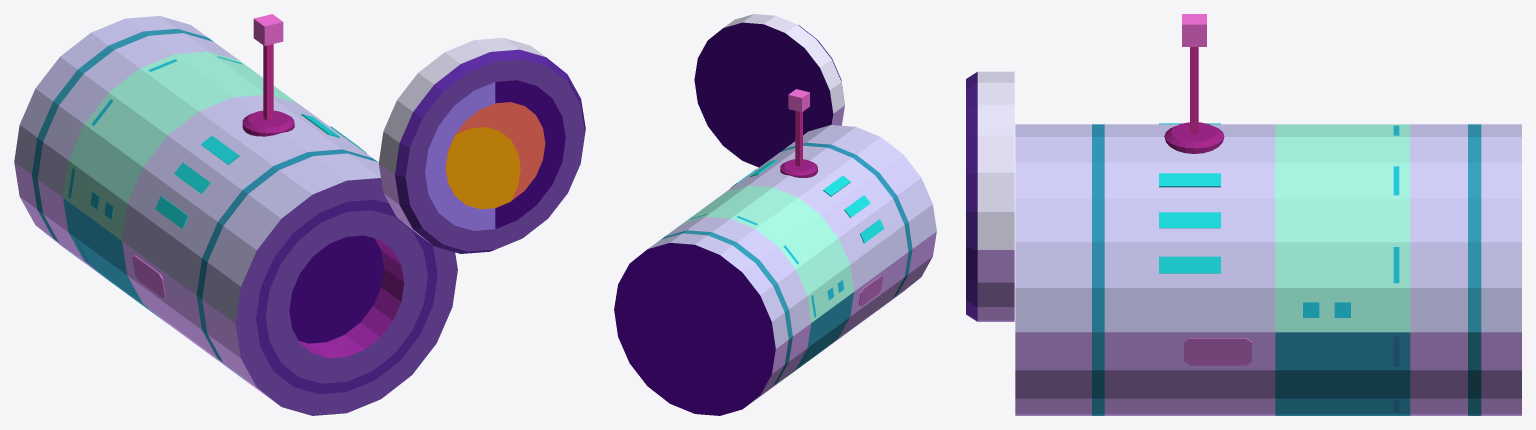
File: Building_019_d.fbx
The picture shows the model from 3 angles, left to right: view 1: azimuth 30°, elevation 25°; view 2: azimuth 150°, elevation 25°; view 3: azimuth 270°, elevation 25°; orthographic projection. The views are drawn at different scales.
Visible parts, largest first — view 1: Building_019_d1, Building_019_d2; view 2: Building_019_d1, Building_019_d2; view 3: Building_019_d1, Building_019_d2.
Part boxes in pixels (x1,y1,x2,y2): Building_019_d1: (14, 14, 457, 415); Building_019_d2: (378, 38, 585, 253); Building_019_d1: (614, 89, 936, 415); Building_019_d2: (694, 14, 844, 167); Building_019_d1: (1015, 14, 1521, 415); Building_019_d2: (966, 71, 1014, 321).
Size of the model in its own units: 10.04 by 9.84 by 12.67.
